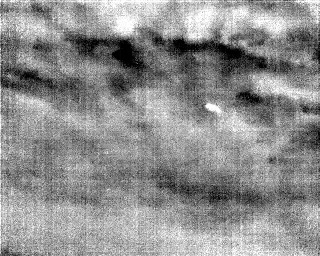BIRD: (209, 102, 228, 117)
